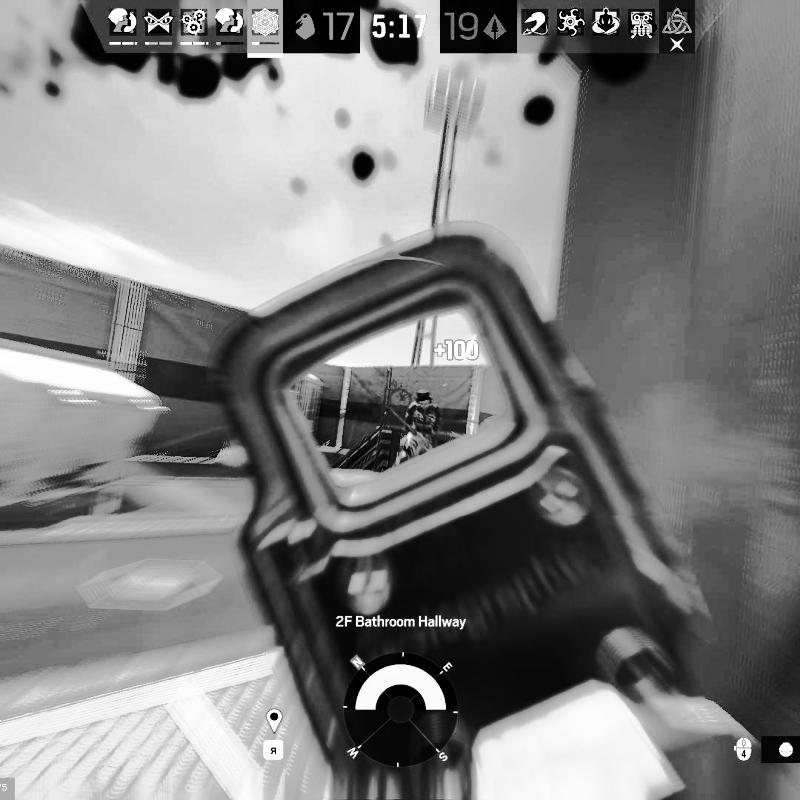Character: (396, 389, 441, 462)
Head: (415, 390, 432, 410)
